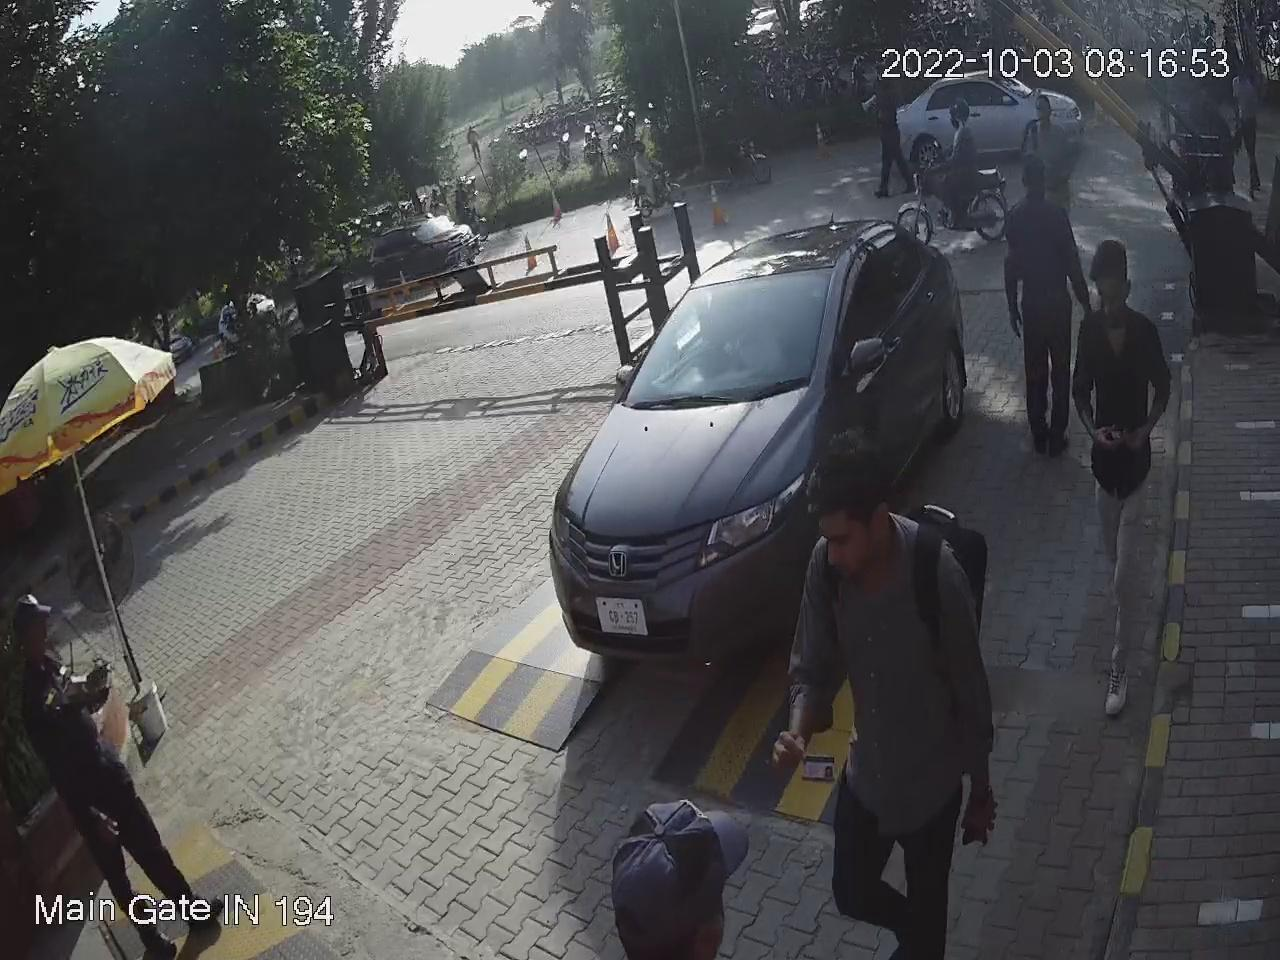windshield: (616, 260, 846, 405)
